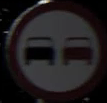No overtake: (10, 4, 101, 84)
